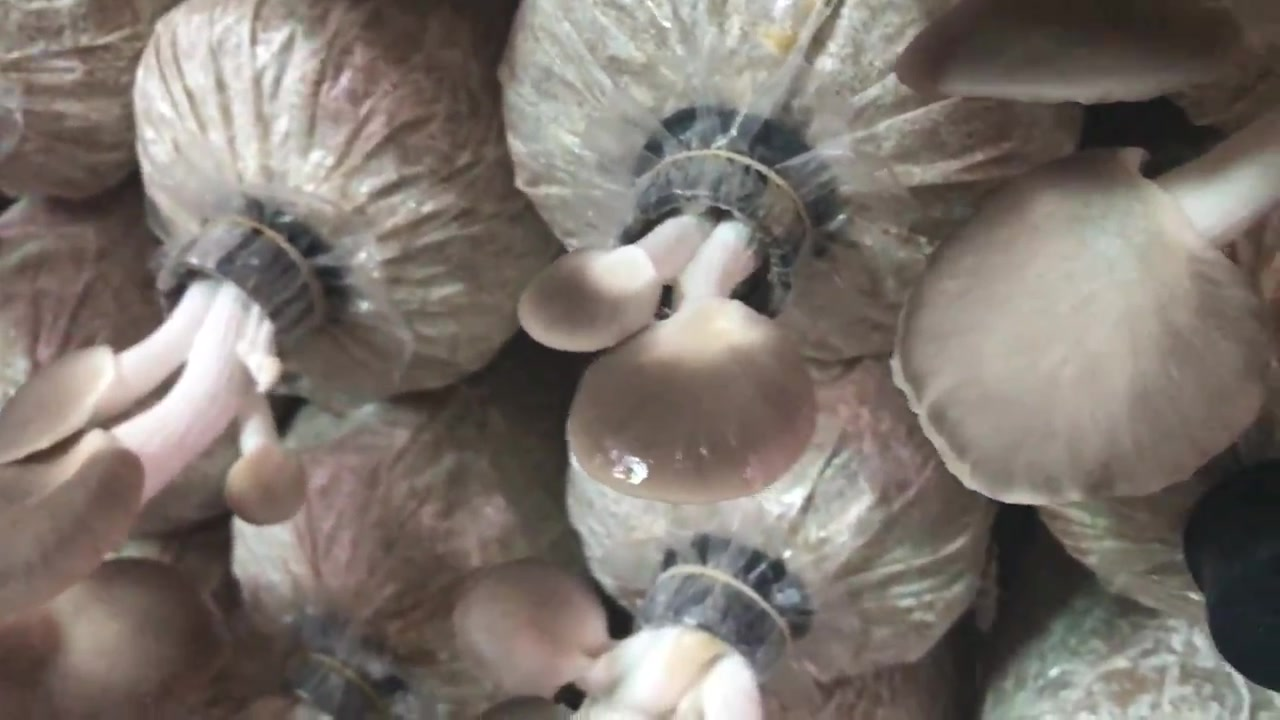nam: (886, 3, 1280, 510), (1, 218, 334, 618), (510, 155, 821, 507), (453, 552, 805, 720)
